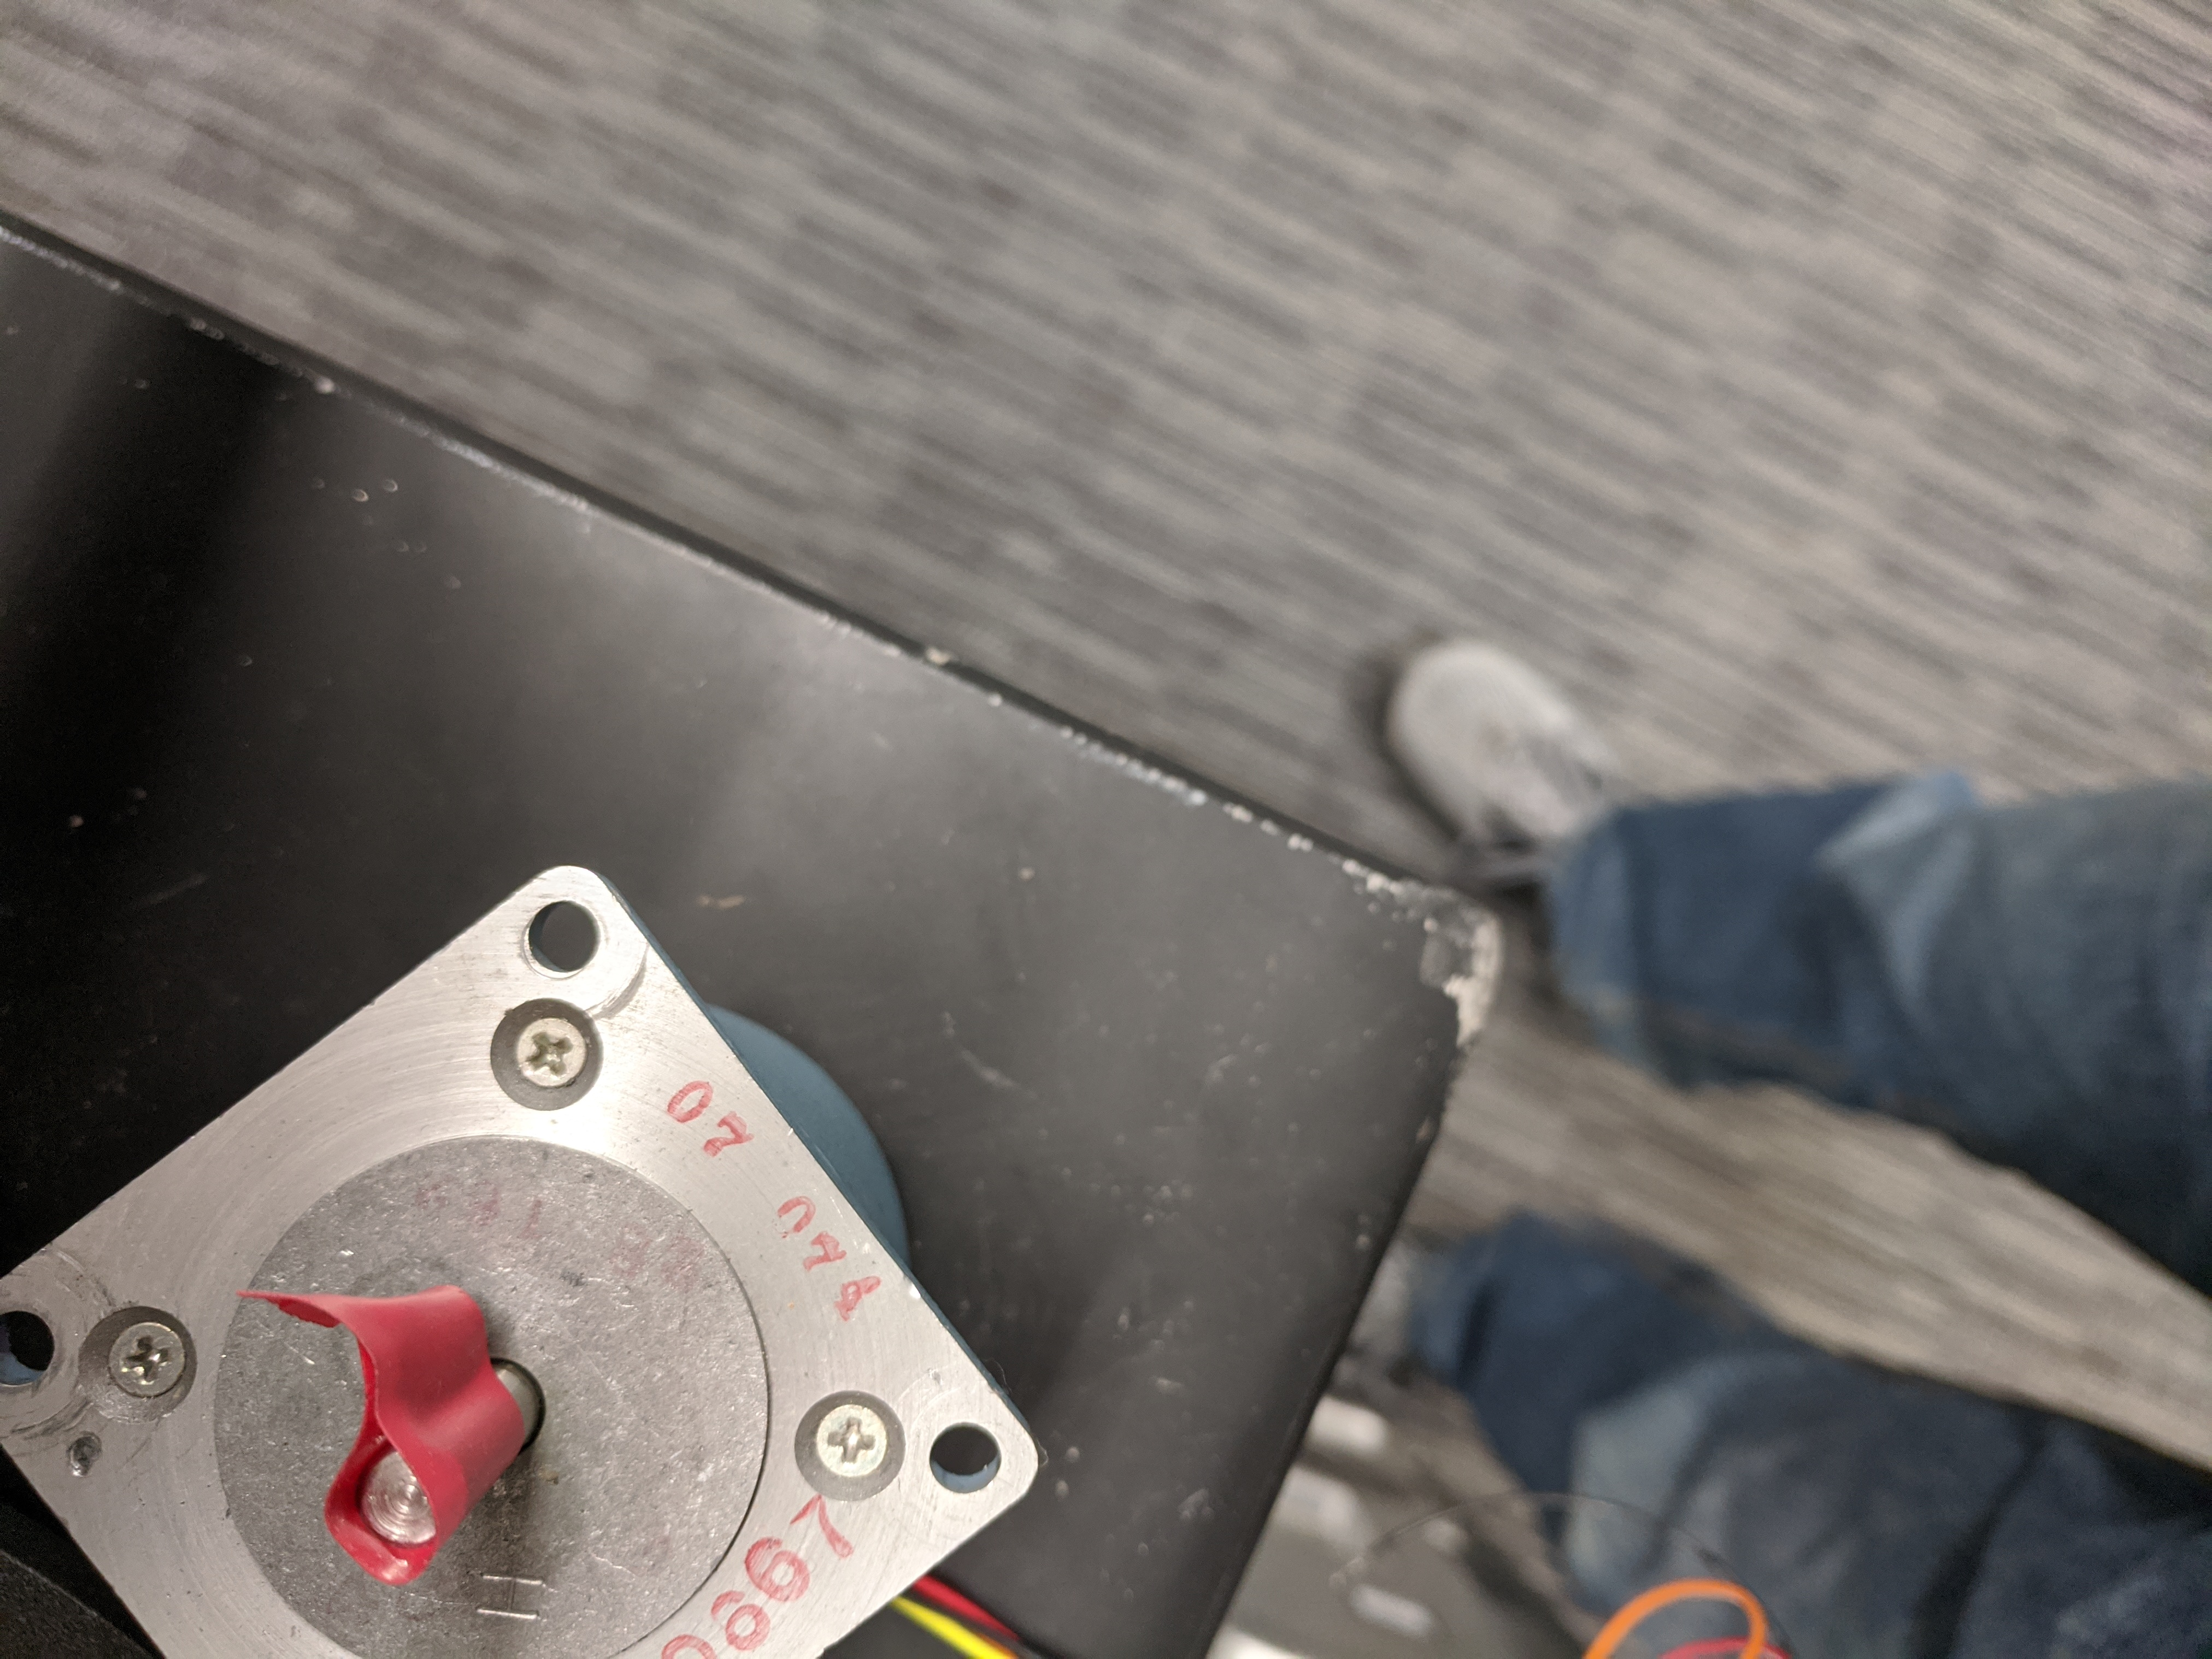cross_recessed_screw: (503, 1007, 583, 1098), (808, 1399, 888, 1481), (92, 1317, 176, 1391)
